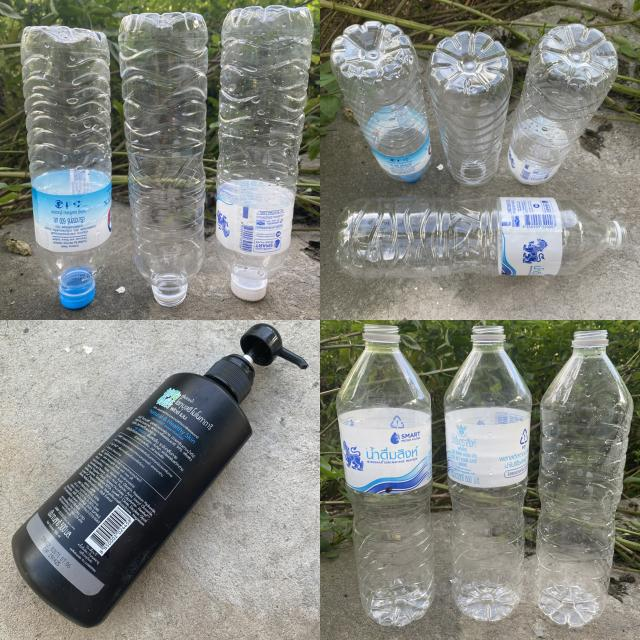plastik: (11, 324, 308, 628), (336, 324, 434, 626), (535, 330, 634, 627), (216, 6, 314, 301), (119, 12, 208, 306), (444, 326, 531, 621), (21, 26, 111, 309), (334, 196, 626, 278), (508, 24, 616, 185), (330, 21, 431, 182), (426, 31, 512, 186)
